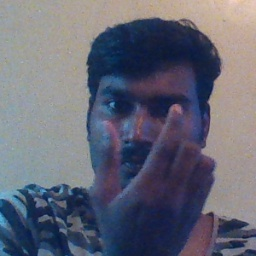U: (87, 99, 219, 241)
